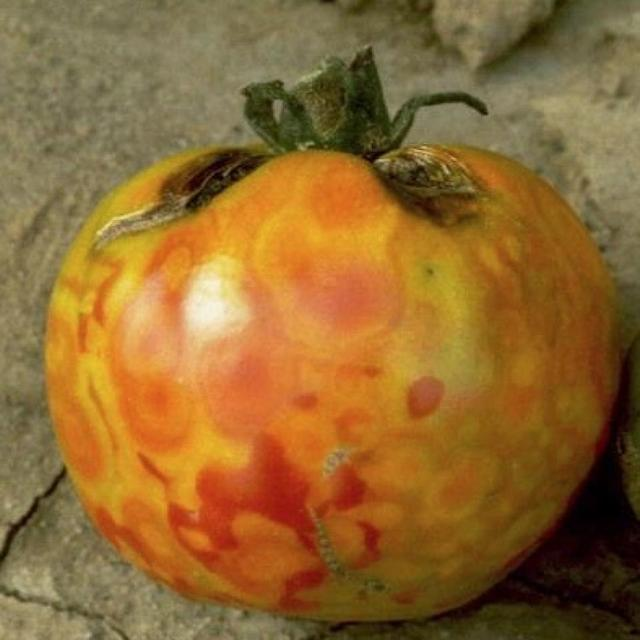Spotted wilt Virus Fruit: (105, 53, 248, 151)
